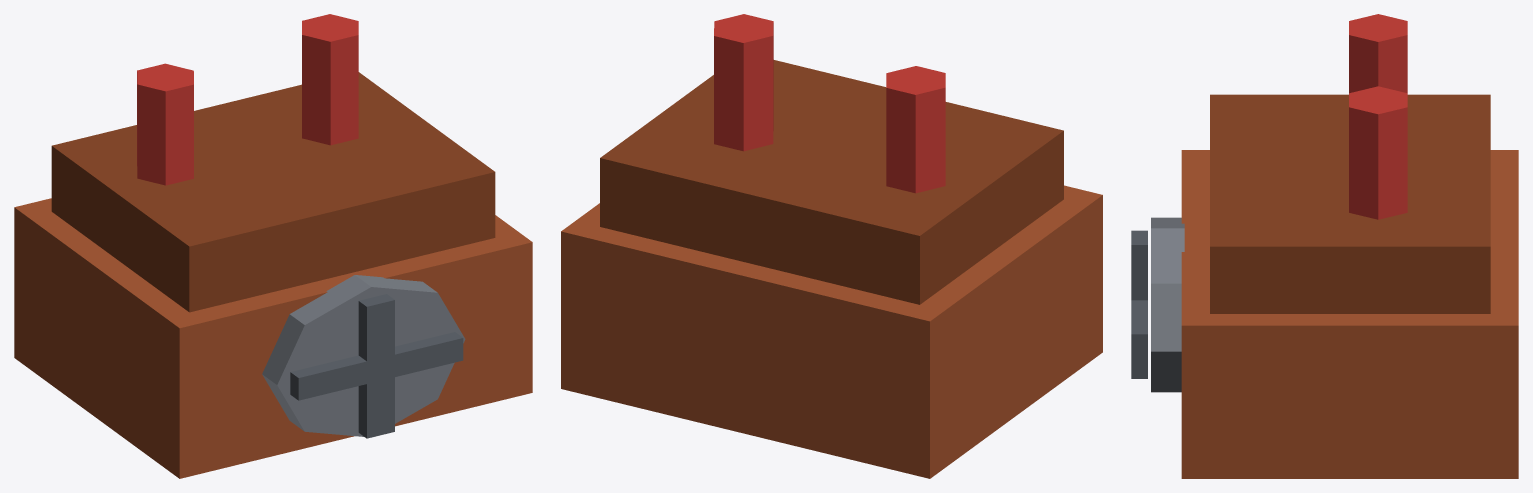
File: env_r7_rusty_engine.glb
The picture shows the model from 3 angles, left to right: view 1: azimuth 30°, elevation 25°; view 2: azimuth 150°, elevation 25°; view 3: azimuth 270°, elevation 25°; orthographic projection. The views are drawn at different scales.
Visible parts, largest first — view 1: env_r7_rusty_engine; view 2: env_r7_rusty_engine; view 3: env_r7_rusty_engine.
Boxes of the visible parts, box(x1,y1,x2,y2) form: env_r7_rusty_engine: box(14, 14, 532, 478); env_r7_rusty_engine: box(561, 14, 1102, 478); env_r7_rusty_engine: box(1131, 14, 1518, 478).
Bounding box in the file's own units: 1.5 × 1.3 × 1.4.
1 material, 1 textured.
